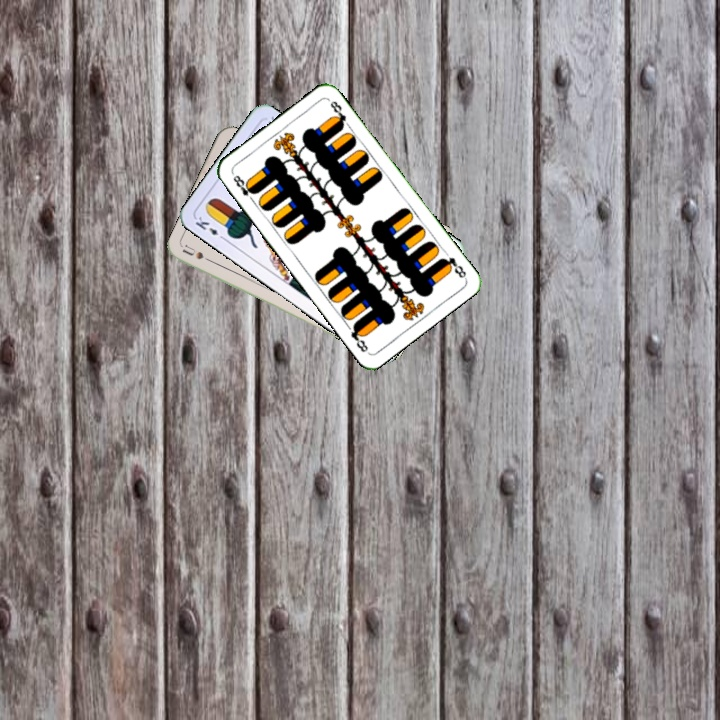E8: (229, 171, 259, 205), (437, 253, 469, 281)
EK: (191, 212, 228, 243)
SU: (179, 241, 218, 267)
